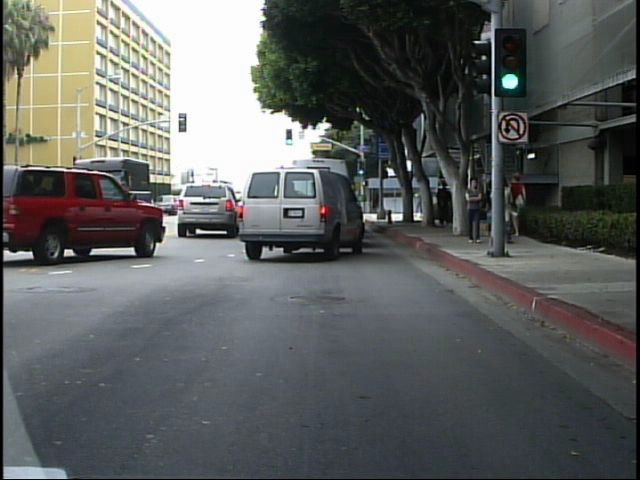person: (494, 172, 518, 253), (513, 172, 535, 243), (467, 175, 487, 245), (432, 175, 454, 230), (412, 185, 424, 217)
